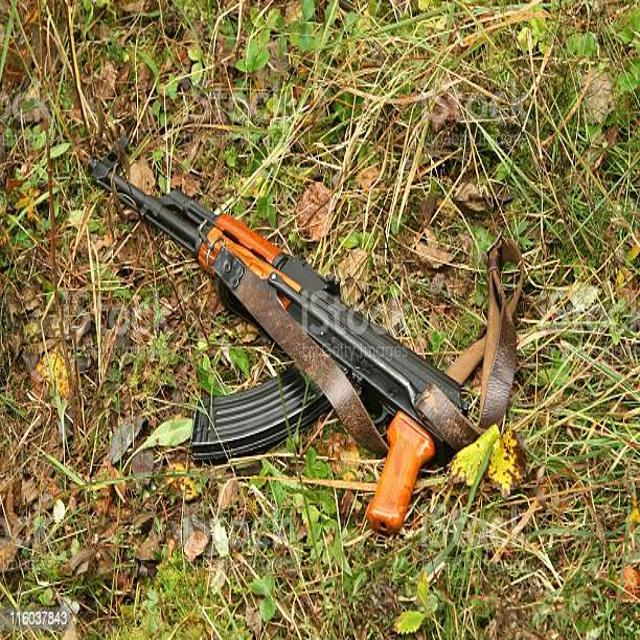gun: (35, 117, 548, 552)
